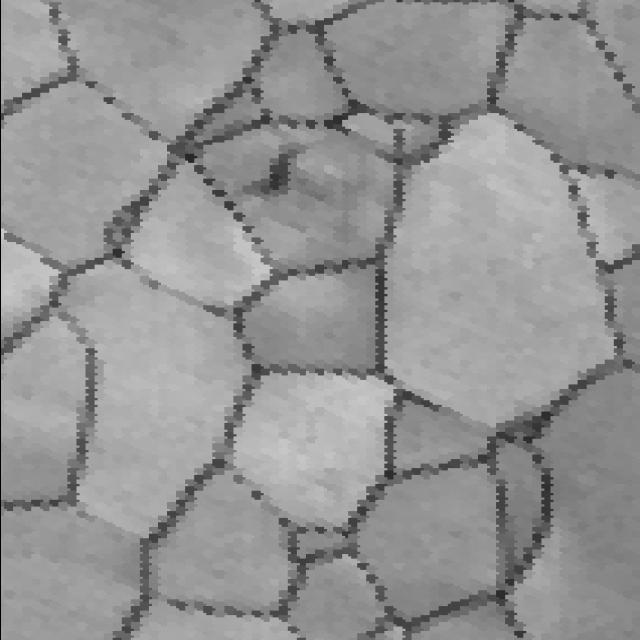good_void: (238, 143, 303, 202)
